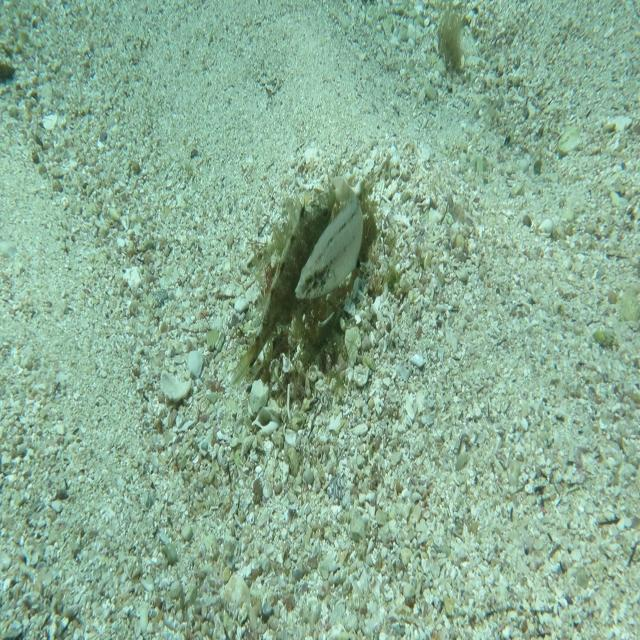FAN: (228, 186, 338, 392)
core_nest: (313, 197, 372, 255)
female: (295, 175, 364, 300)
nest: (247, 162, 392, 402)
